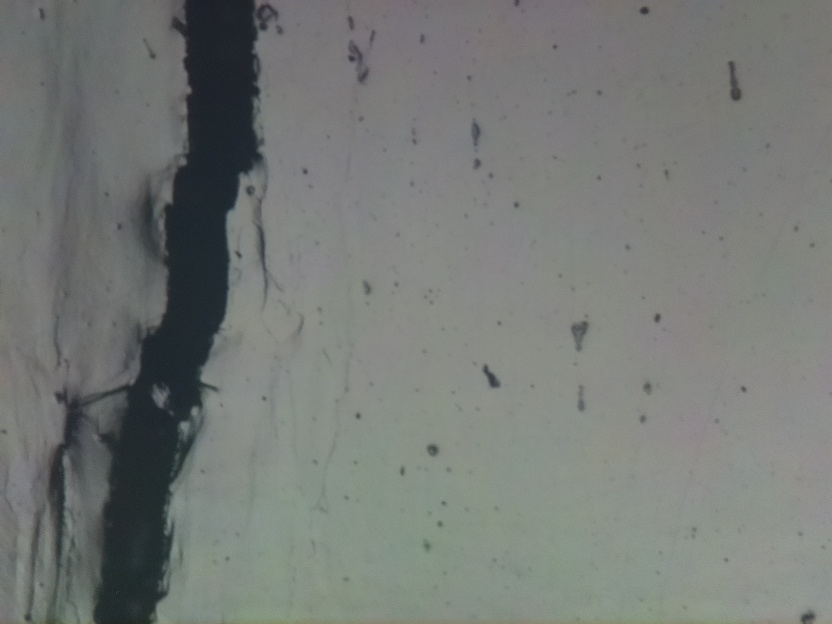crack: (87, 0, 257, 622), (49, 384, 80, 588), (251, 216, 268, 315)
